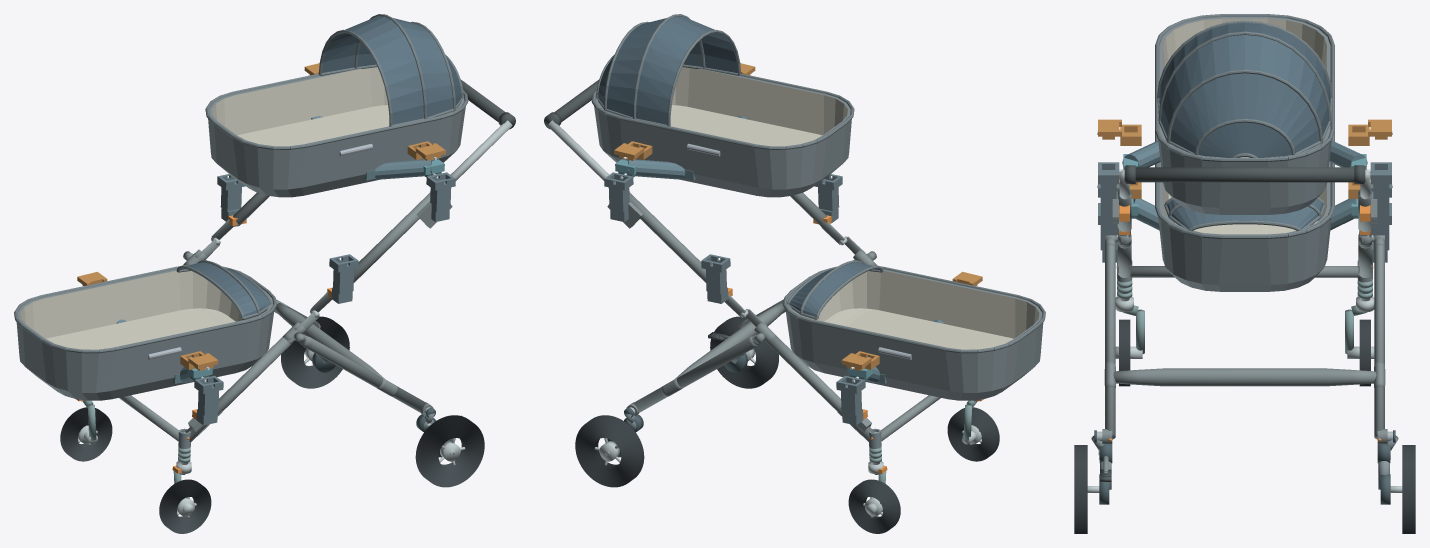
The model's file is D03_w650_state1_wheel_S.glb.
The picture shows the model from 3 angles, left to right: view 1: azimuth 30°, elevation 25°; view 2: azimuth 150°, elevation 25°; view 3: azimuth 270°, elevation 25°; orthographic projection. The views are drawn at different scales.
Parts seen in each view (by area): view 1: D03_Upper, D03_Lower, RL_tire.008, RR_tire.008, FL_tire.008, FR_tire.008, V46_rear_leg_-1.009, main_lower_-1.009, D03_Upper_Mount_H, main_upper_-1.009, V46_rearbar.009, Universal_Cabin_Receiver_L_-1 (+6 smaller); view 2: D03_Upper, D03_Lower, RR_tire.008, FR_tire.008, RL_tire.008, FL_tire.008, V46_rear_leg_1.009, main_lower_1.009, D03_Upper_Mount_H, main_upper_1.009, V46_rearbar.009, Universal_Cabin_Receiver_L_1 (+6 smaller); view 3: D03_Upper, D03_Lower, V46_rearbar.009, round_handle.008, V46_rear_leg_1.009, V46_rear_leg_-1.009, D03_Upper_Mount_H, RL_tire.008, RR_tire.008, D03_Lower_Mount_L, Universal_Cabin_Receiver_H_1, Universal_Cabin_Receiver_H_-1 (+7 smaller).
Part boxes in pixels (<box>): D03_Upper: <box>205,14,468,197</box>; D03_Lower: <box>14,260,276,400</box>; RL_tire.008: <box>415,415,484,487</box>; RR_tire.008: <box>281,316,349,388</box>; FL_tire.008: <box>159,479,211,533</box>; FR_tire.008: <box>60,407,112,461</box>; V46_rear_leg_-1.009: <box>302,336,426,412</box>; main_lower_-1.009: <box>185,337,294,442</box>; D03_Upper_Mount_H: <box>311,116,444,180</box>; main_upper_-1.009: <box>332,192,430,287</box>; V46_rearbar.009: <box>274,303,384,378</box>; Universal_Cabin_Receiver_L_-1: <box>194,375,223,425</box>; D03_Upper: <box>591,14,854,197</box>; D03_Lower: <box>783,260,1045,400</box>; RR_tire.008: <box>575,415,644,487</box>; FR_tire.008: <box>848,479,900,533</box>; RL_tire.008: <box>710,316,778,388</box>; FL_tire.008: <box>947,407,999,461</box>; V46_rear_leg_1.009: <box>633,336,757,412</box>; main_lower_1.009: <box>765,337,874,442</box>; D03_Upper_Mount_H: <box>615,116,748,180</box>; main_upper_1.009: <box>629,192,727,287</box>; V46_rearbar.009: <box>675,303,785,378</box>; Universal_Cabin_Receiver_L_1: <box>836,375,865,425</box>; D03_Upper: <box>1155,14,1334,214</box>; D03_Lower: <box>1155,131,1334,291</box>; V46_rearbar.009: <box>1113,368,1376,386</box>; round_handle.008: <box>1124,167,1365,182</box>; V46_rear_leg_1.009: <box>1374,243,1384,439</box>; V46_rear_leg_-1.009: <box>1105,243,1115,439</box>; D03_Upper_Mount_H: <box>1119,140,1370,172</box>; RL_tire.008: <box>1074,445,1087,533</box>; RR_tire.008: <box>1402,445,1415,533</box>; D03_Lower_Mount_L: <box>1131,199,1358,230</box>; Universal_Cabin_Receiver_H_1: <box>1370,162,1391,221</box>; Universal_Cabin_Receiver_H_-1: <box>1098,162,1119,221</box>.
Bounding box in the file's own units: 1.37 × 1.25 × 0.766.
